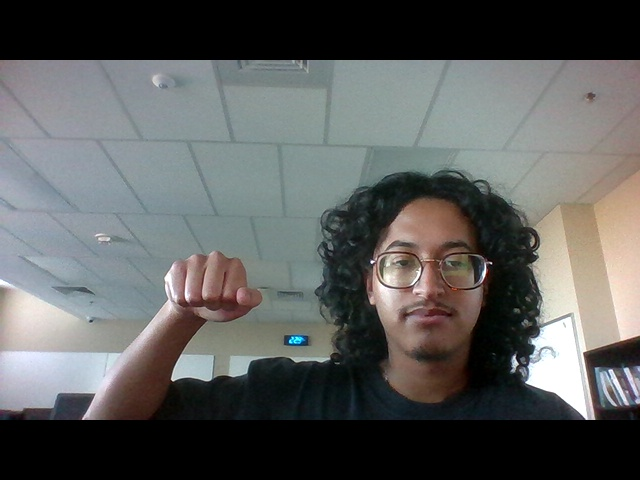yes: (152, 238, 275, 336)
